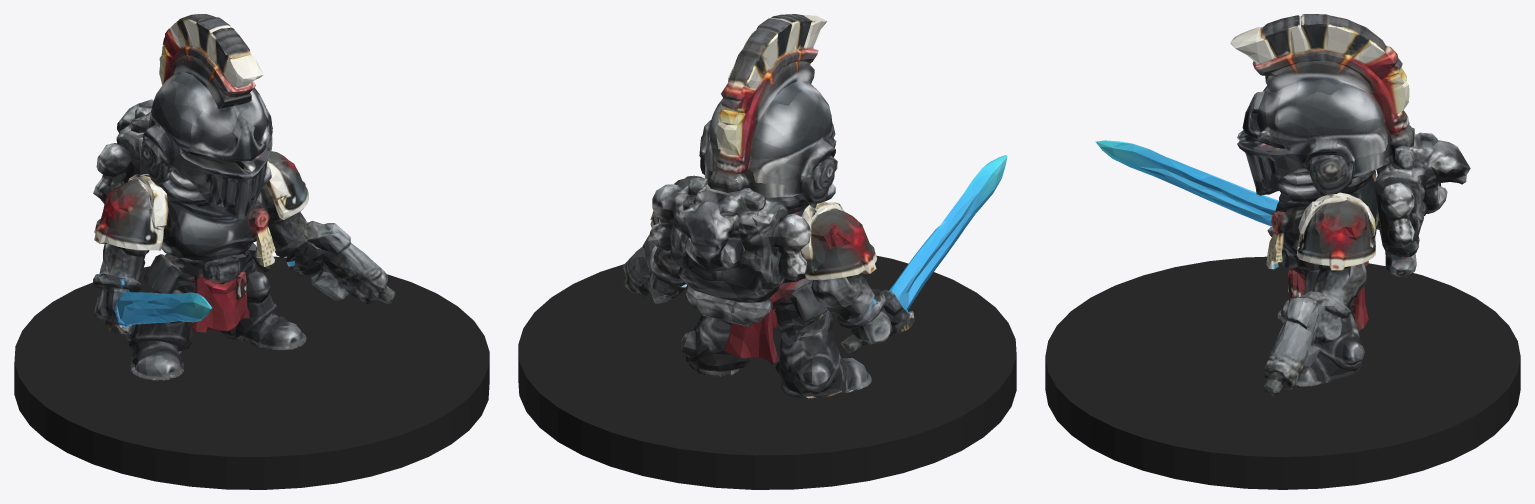
Rendered from crusader-sword-brother.glb.
3 views of the same model, side by side, from view 1: azimuth 30°, elevation 25°; view 2: azimuth 150°, elevation 25°; view 3: azimuth 270°, elevation 25° (orthographic). The views are drawn at different scales.
Visible parts, largest first — view 1: base, figure; view 2: base, figure; view 3: base, figure.
Boxes of the visible parts, x1=… form: base: x1=14, y1=256, x2=489, y2=489; figure: x1=92, y1=14, x2=395, y2=380; base: x1=518, y1=255, x2=1016, y2=489; figure: x1=623, y1=14, x2=1007, y2=398; base: x1=1045, y1=256, x2=1520, y2=489; figure: x1=1095, y1=14, x2=1470, y2=396.
Bounding box in the file's own units: 1.57 × 1.32 × 1.57.
2 materials, 1 textured.
